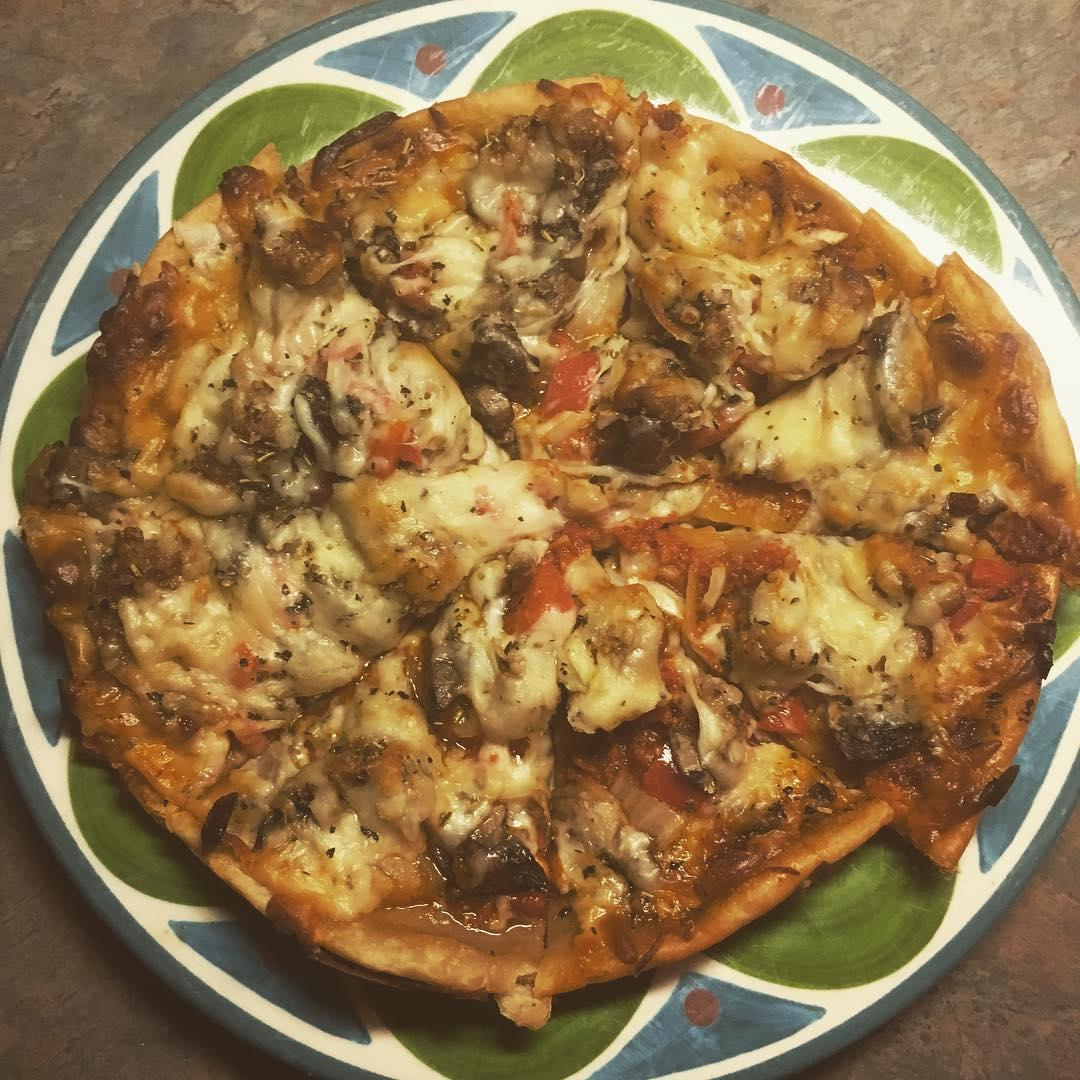Cheese: (169, 561, 378, 676), (309, 299, 453, 404), (783, 559, 912, 662), (381, 467, 540, 550), (765, 389, 885, 477)
Mushroom: (505, 141, 617, 221), (425, 597, 486, 734), (639, 289, 736, 366), (293, 381, 373, 473), (445, 839, 566, 896), (229, 435, 322, 506), (357, 245, 436, 328), (835, 709, 932, 761), (603, 425, 693, 481), (465, 339, 530, 405), (529, 253, 598, 312), (101, 533, 169, 588)
Pizza: (37, 92, 1080, 993)
Tomatoes: (533, 329, 602, 417), (509, 561, 584, 641), (629, 731, 713, 800), (873, 537, 930, 590), (369, 431, 426, 473), (969, 551, 1012, 593)
